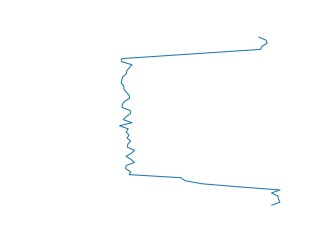distributaryChannelFill: (117, 36, 285, 208)
